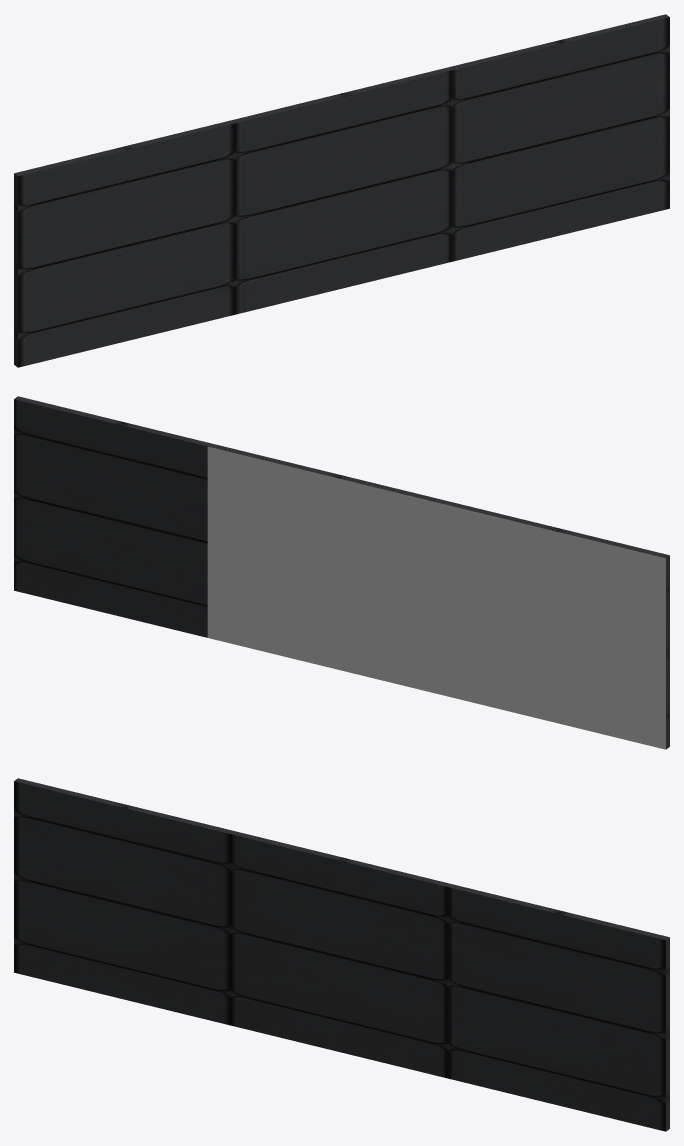
The model's file is sda.fbx.
The picture shows the model from 3 angles, top to bottom: view 1: azimuth 30°, elevation 25°; view 2: azimuth 150°, elevation 25°; view 3: azimuth 330°, elevation 25°; orthographic projection.
Visible parts, largest first — view 1: Cube; view 2: Cube; view 3: Cube.
Part boxes in pixels (x1,y1,x2,y2): Cube: [14, 14, 669, 367]; Cube: [14, 396, 669, 749]; Cube: [14, 778, 669, 1131].
Size of the model in its own units: 7768 by 2180 by 84.02.
